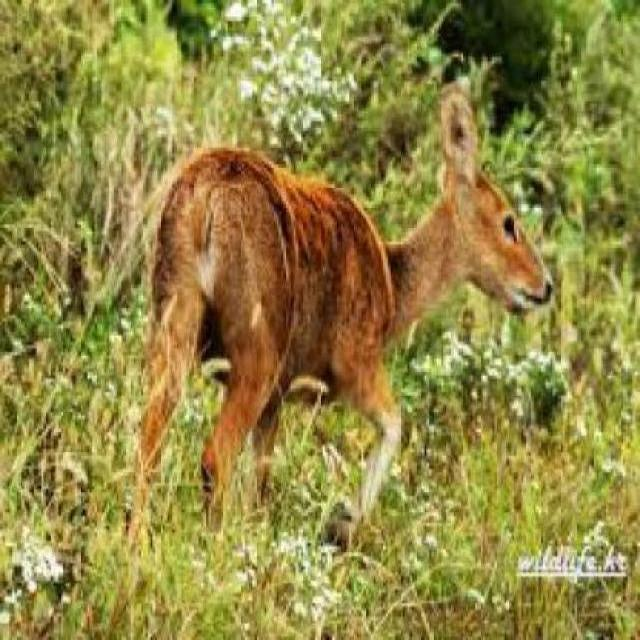deer: (128, 82, 562, 545)
